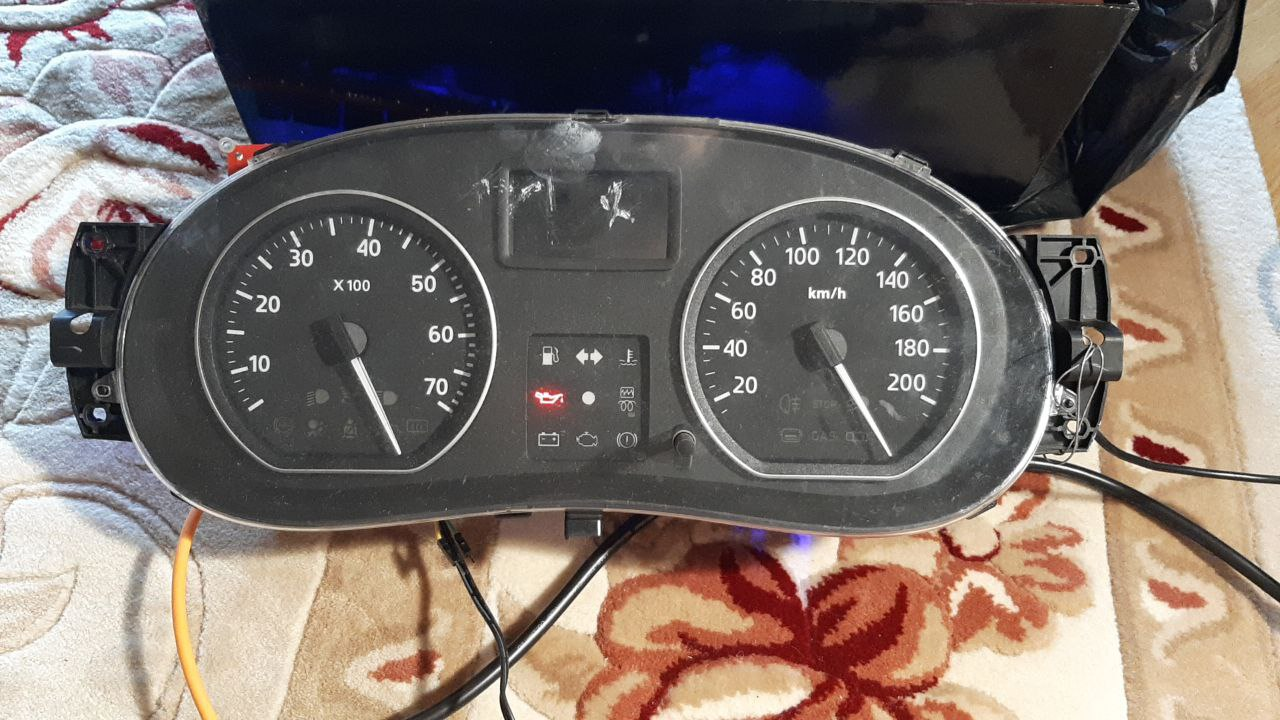oil: (528, 385, 573, 412)
